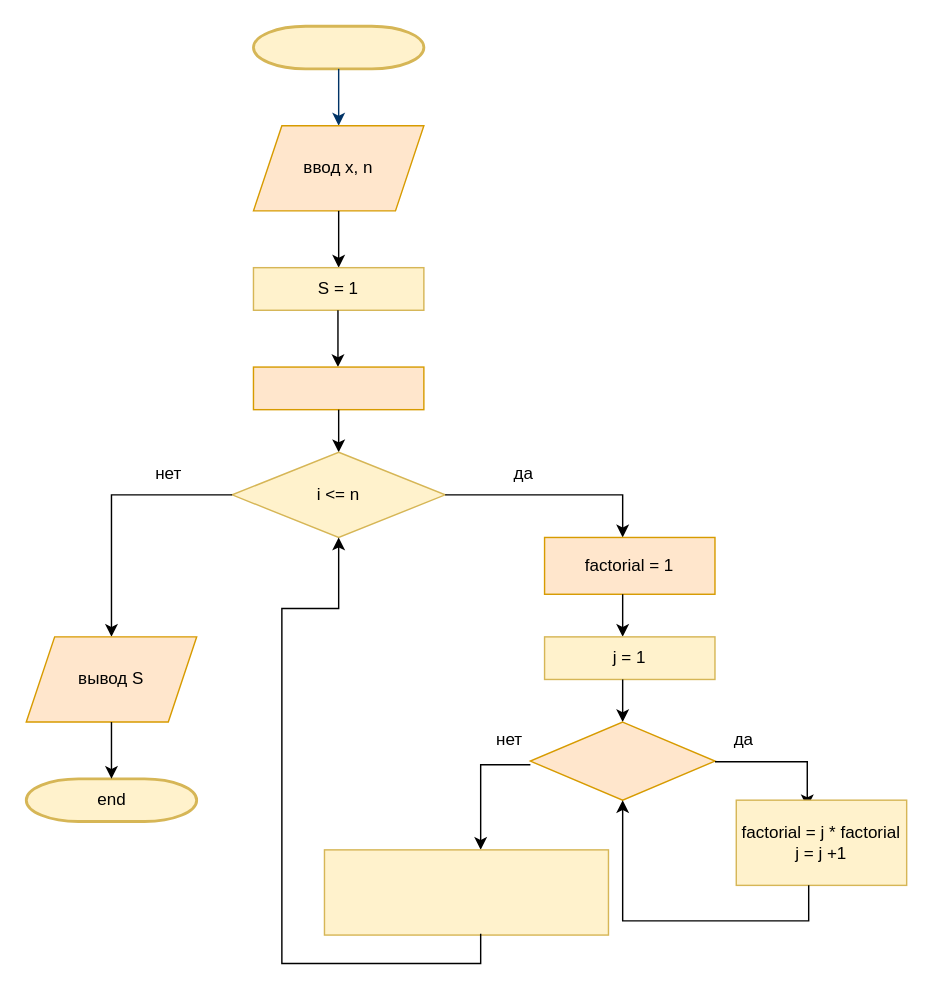
This 932x1000 diagram has some shape labels left out. Here are the shapes that lost their labels. From the top down, the centre of each, then its label:
the point at 338,47: start
the point at 338,388: i = 1
the point at 622,760: j <= i
the point at 465,891: S = S + cos(i * π / 4) * x i / factorial i = i + 1
